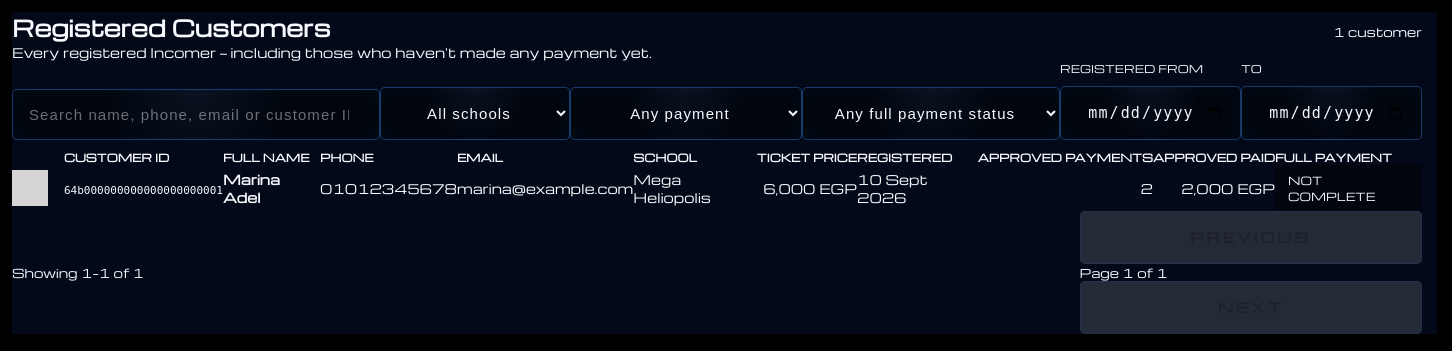
Test case: empty results explain themselves, and Clear resets the filters
Expected: the text "Marina Adel" is shown, [223,165,320,211]
Select "Has approved payment" in the dropdown named "Filter by approved payment" at (686, 114), box [570,87,802,140]
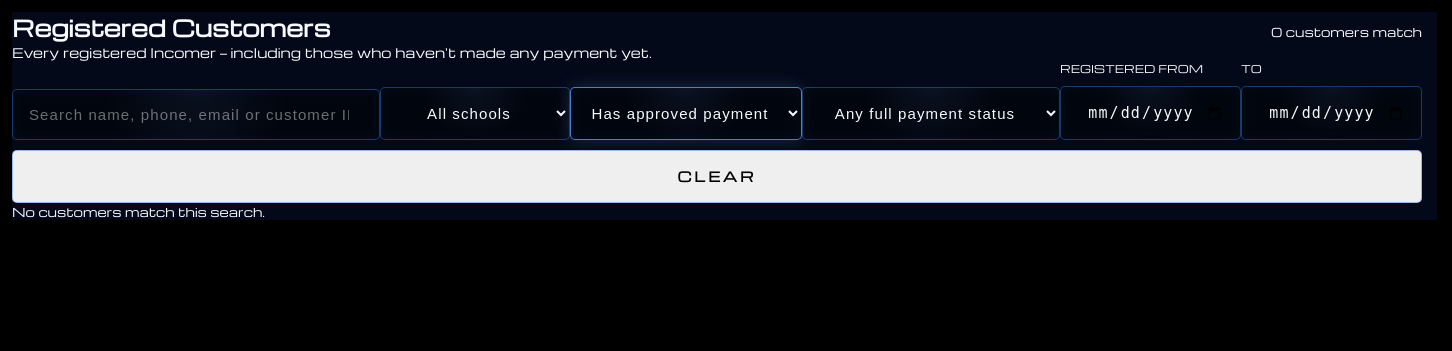
Expected: the text "No customers match this search." is shown, [12,203,265,220]
Click the button "Clear" at (717, 176), box [12,150,1422,203]
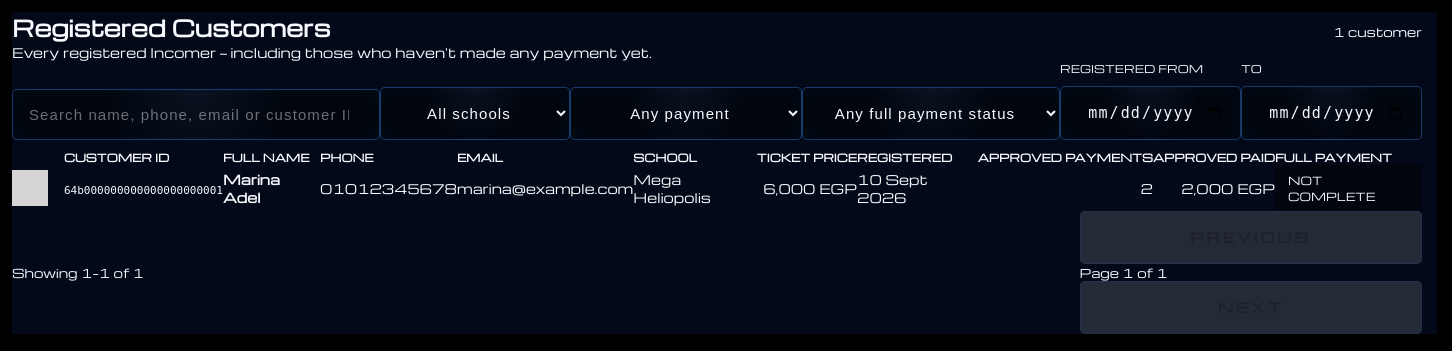
Expected: the text "Marina Adel" is shown, [223,165,320,211]
